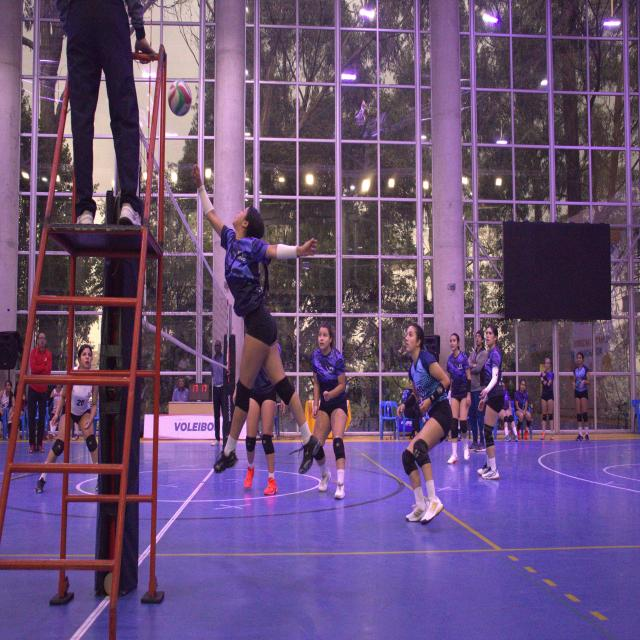volleyball: (168, 79, 192, 116)
